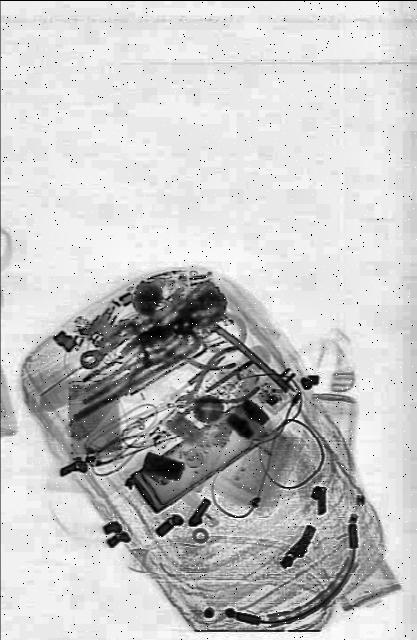Pliers: (168, 334, 260, 432)
Wrench: (79, 317, 139, 371)
